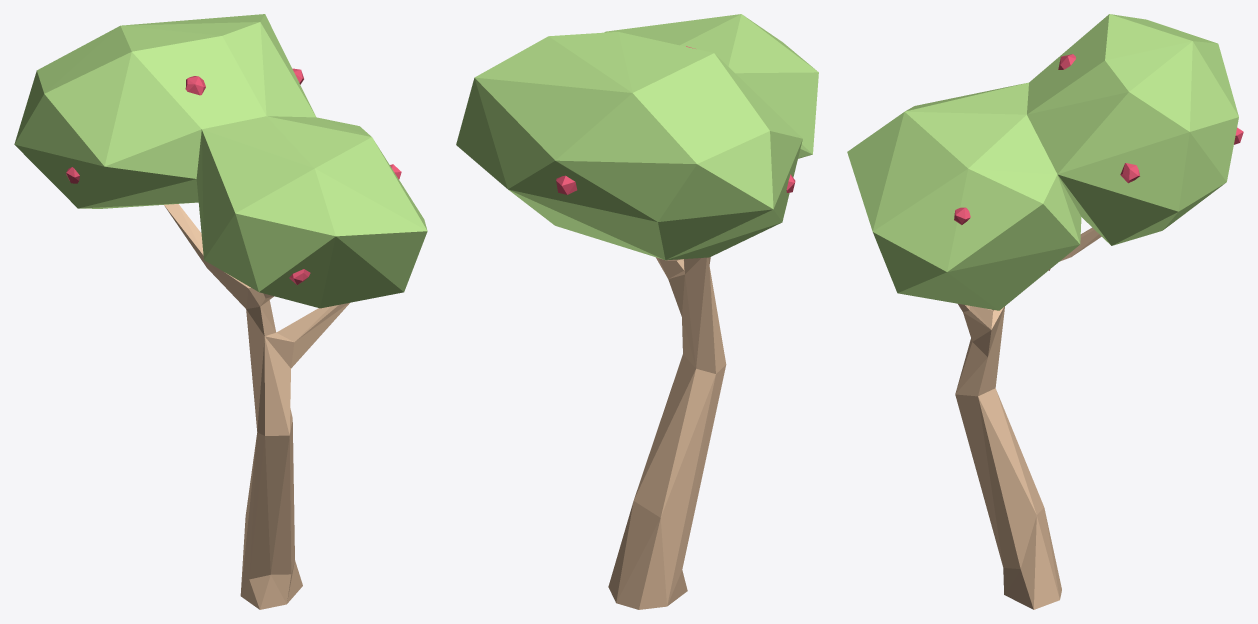
Rendered from tree_001.fbx.
3 views of the same model, side by side, from view 1: azimuth 30°, elevation 25°; view 2: azimuth 150°, elevation 25°; view 3: azimuth 270°, elevation 25° (orthographic). The views are drawn at different scales.
Parts seen in each view (by area): view 1: Tree_001_Crown_LOD0, Tree_001_LOD0, Tree_001_Berries_LOD0; view 2: Tree_001_Crown_LOD0, Tree_001_LOD0; view 3: Tree_001_Crown_LOD0, Tree_001_LOD0, Tree_001_Berries_LOD0.
Part boxes in pixels (x1,y1,x2,y2): Tree_001_Crown_LOD0: (14, 14, 427, 308); Tree_001_LOD0: (164, 204, 349, 609); Tree_001_Berries_LOD0: (66, 68, 401, 284); Tree_001_Crown_LOD0: (456, 14, 818, 260); Tree_001_LOD0: (608, 257, 726, 609); Tree_001_Crown_LOD0: (847, 14, 1238, 310); Tree_001_LOD0: (955, 227, 1101, 609); Tree_001_Berries_LOD0: (954, 54, 1243, 270).
Size of what is drawn, in the model's own units: 316 by 550 by 372.
